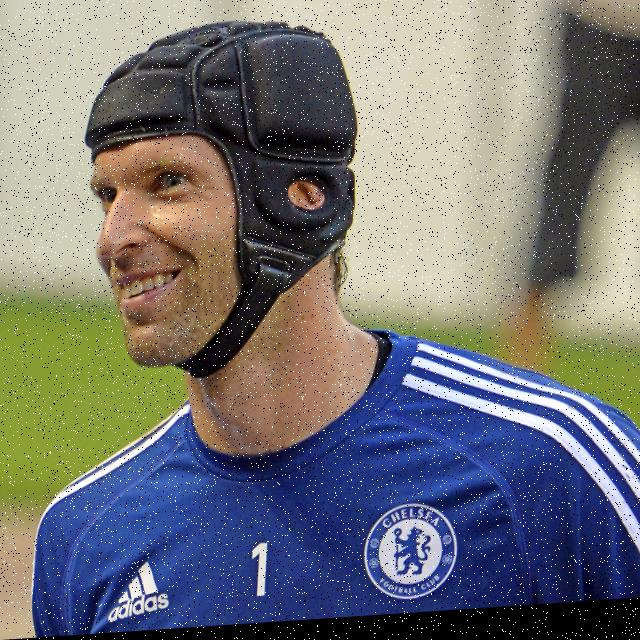illegal_helmet: (75, 9, 371, 391)
